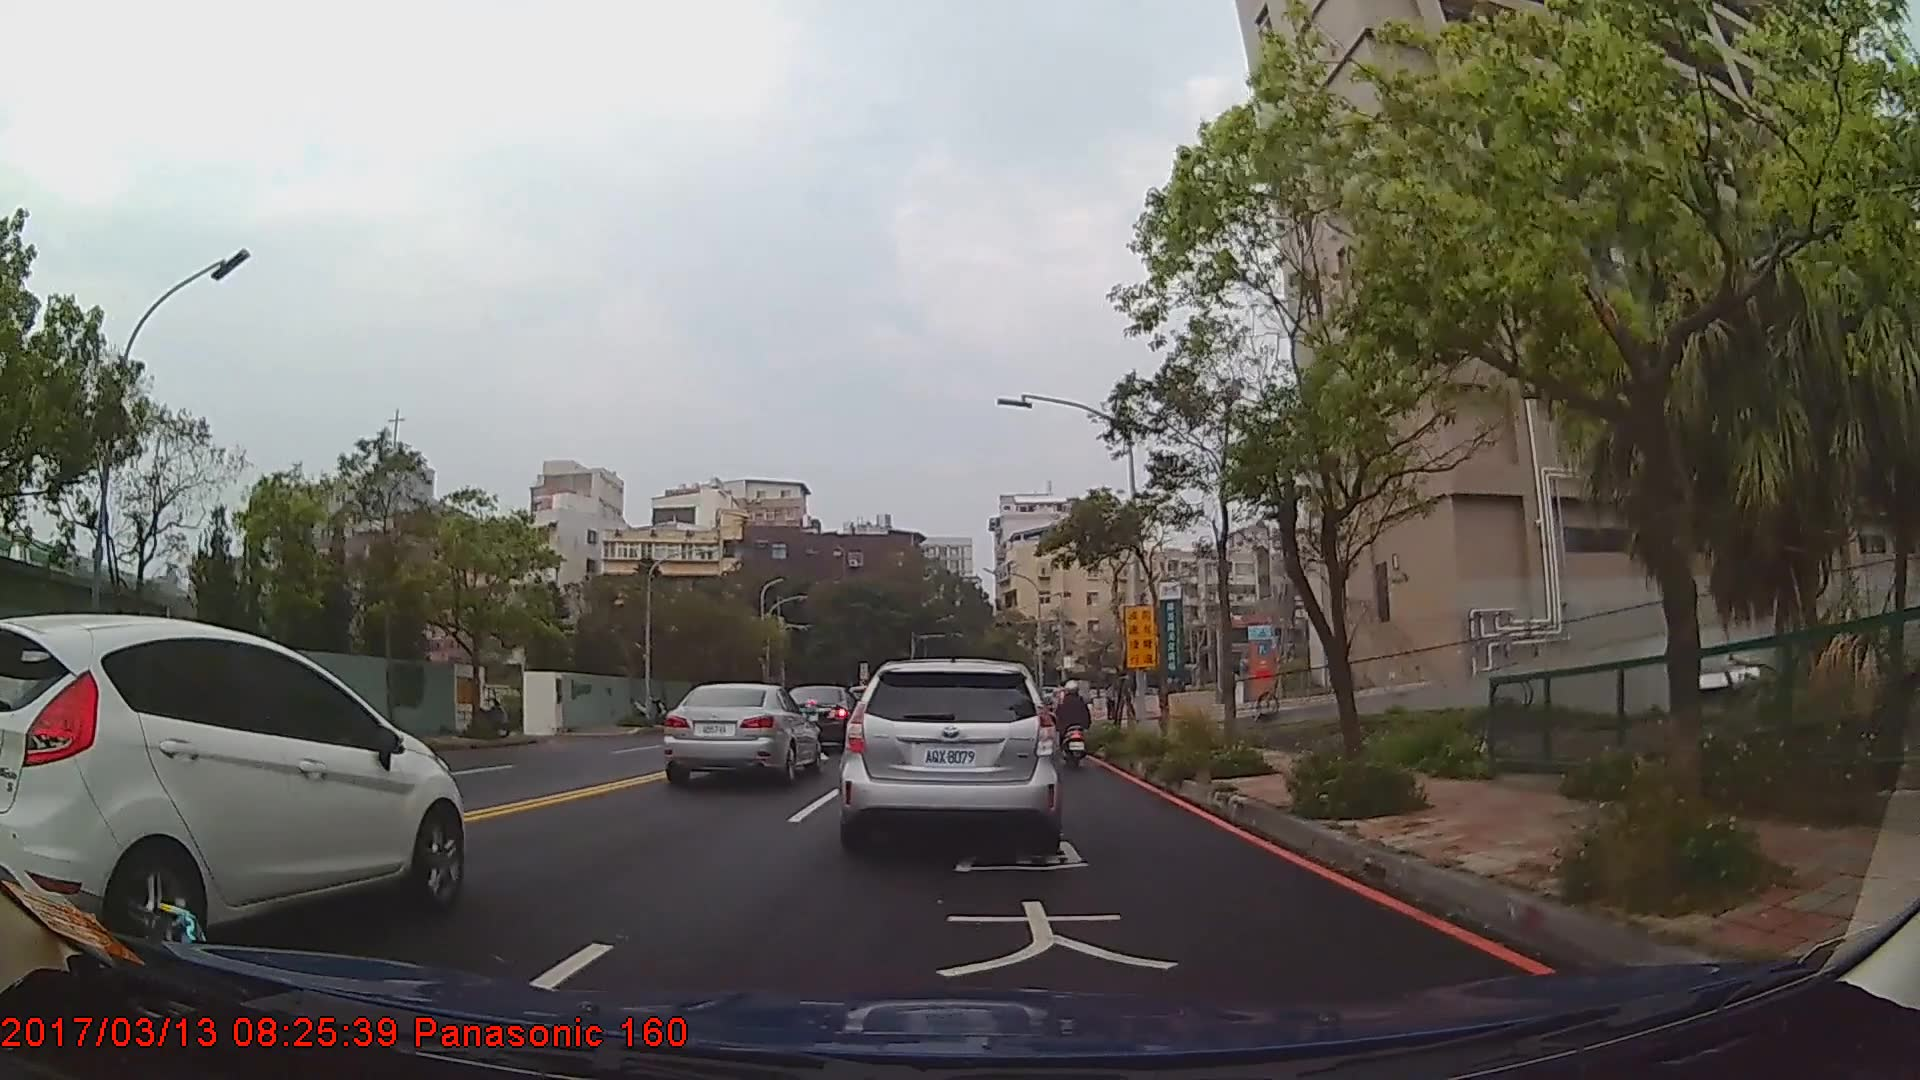rider: (1057, 682, 1095, 772)
vehicle: (0, 611, 466, 972), (836, 653, 1061, 851), (659, 681, 820, 786), (780, 685, 858, 750)
